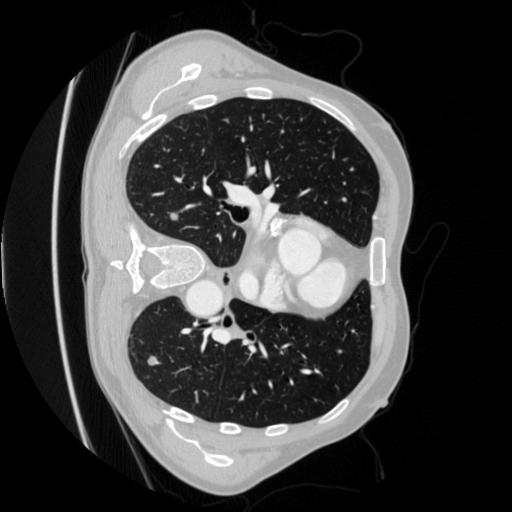nodule: (146, 354, 160, 368)
